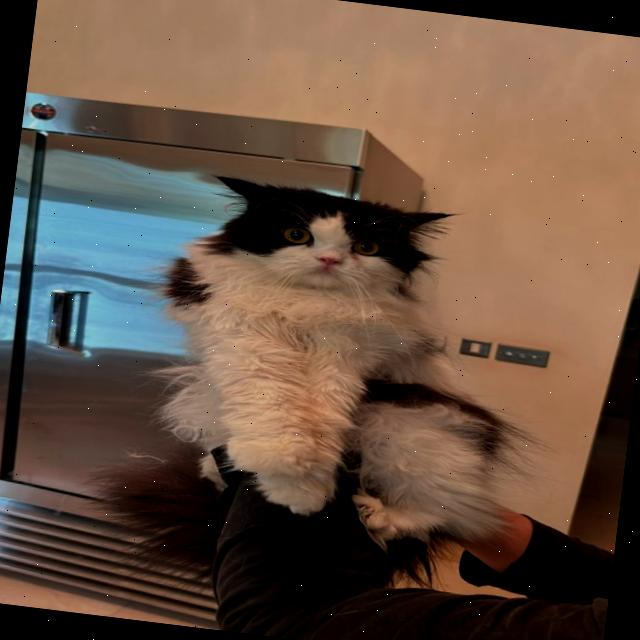persian_cat: (184, 170, 466, 329)
